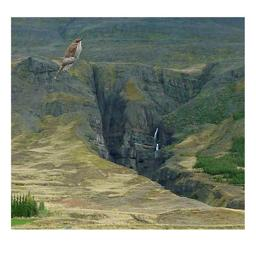Cuckoo: (54, 39, 82, 80)
